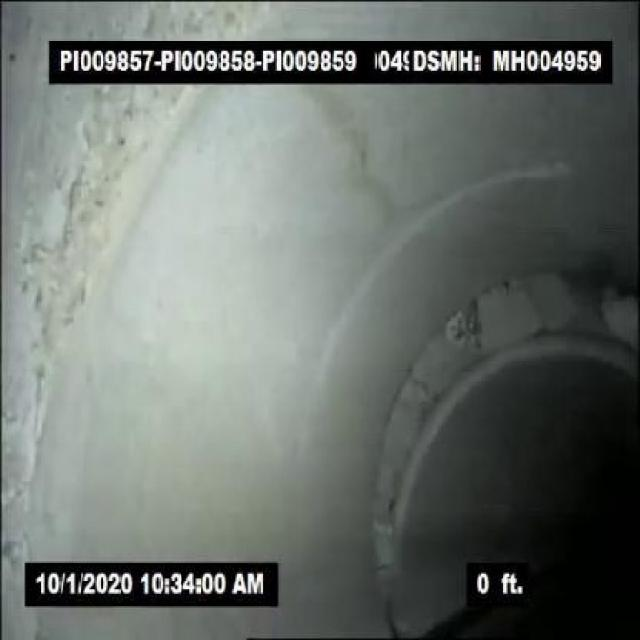Joint offset: (403, 265, 632, 383), (366, 388, 456, 543)
